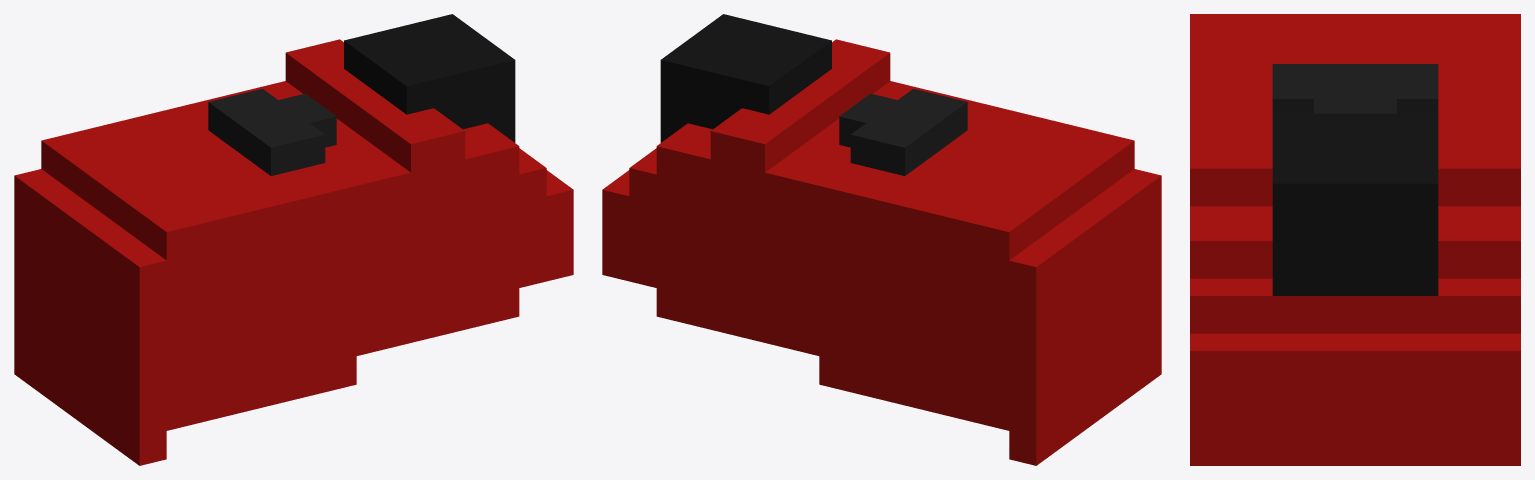
Rendered from quad_bike_tank.glb.
3 renders of one model, left to right at view 1: azimuth 30°, elevation 25°; view 2: azimuth 150°, elevation 25°; view 3: azimuth 270°, elevation 25°, orthographic. The views are drawn at different scales.
Parts seen in each view (by area): view 1: body:compound; view 2: body:compound; view 3: body:compound.
Boxes of the visible parts, bbox=[...] form: body:compound: bbox=[14, 14, 573, 465]; body:compound: bbox=[602, 14, 1161, 465]; body:compound: bbox=[1190, 14, 1520, 465].
Size of the model in its own units: 0.5 by 0.3125 by 0.25.
